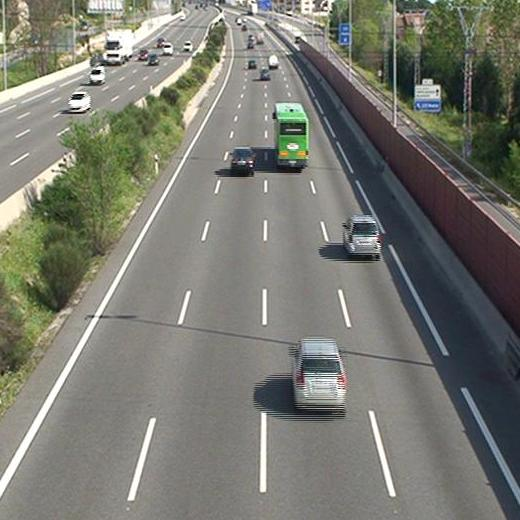bus: (274, 103, 308, 167)
car: (292, 339, 347, 411), (343, 216, 381, 257), (231, 147, 256, 172), (260, 67, 270, 79), (247, 60, 256, 69)
van: (267, 54, 277, 67)
